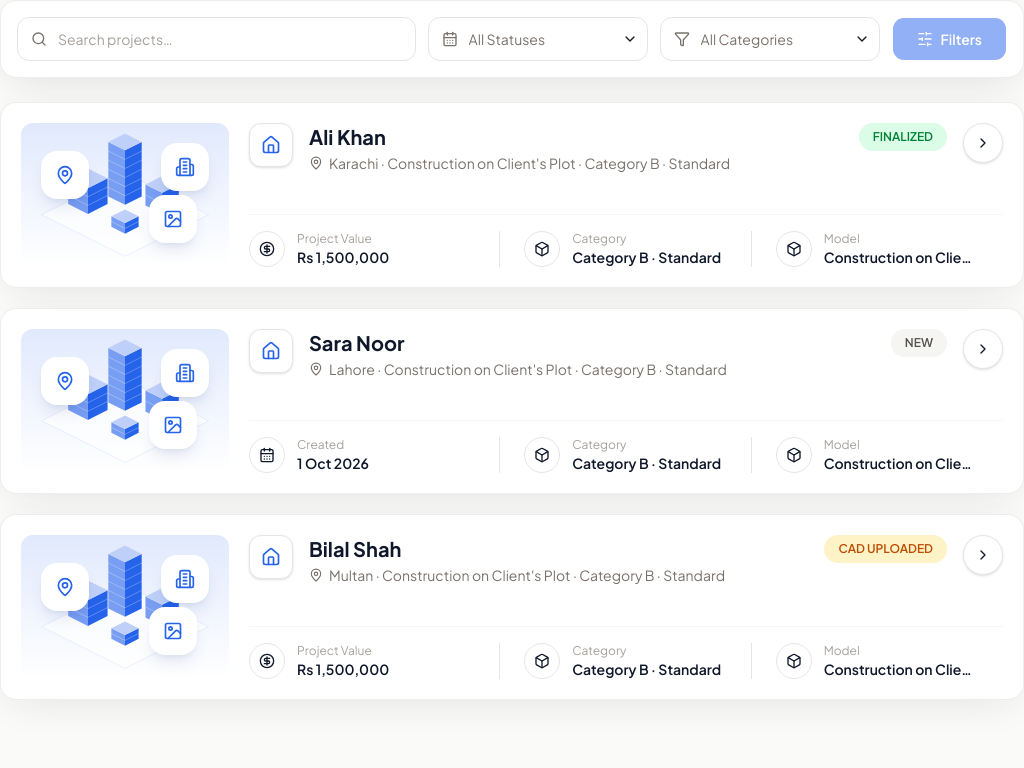
Test case: ProjectsList › filters by status and category together
This screenshot has width=1024, height=768.
Select "Finalized" in the dropdown named "Filter by status": (538, 39) x1=428 y1=17 x2=648 y2=61
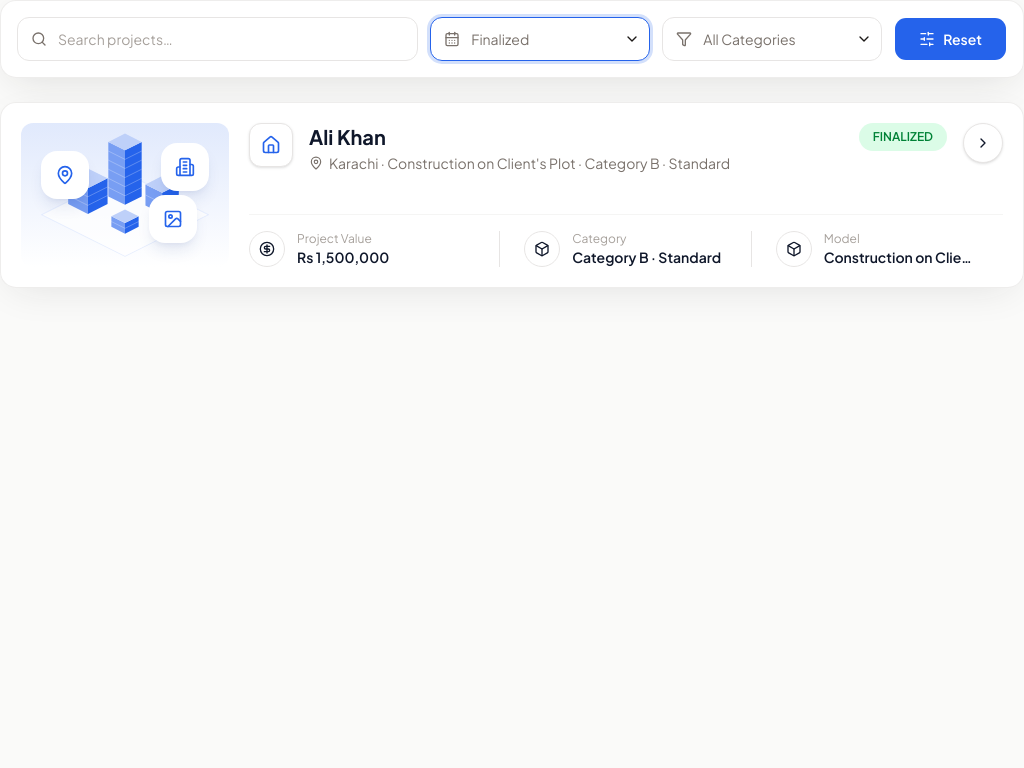
Select "Category A" in the dropdown named "Filter by category": (772, 39) x1=662 y1=17 x2=882 y2=61
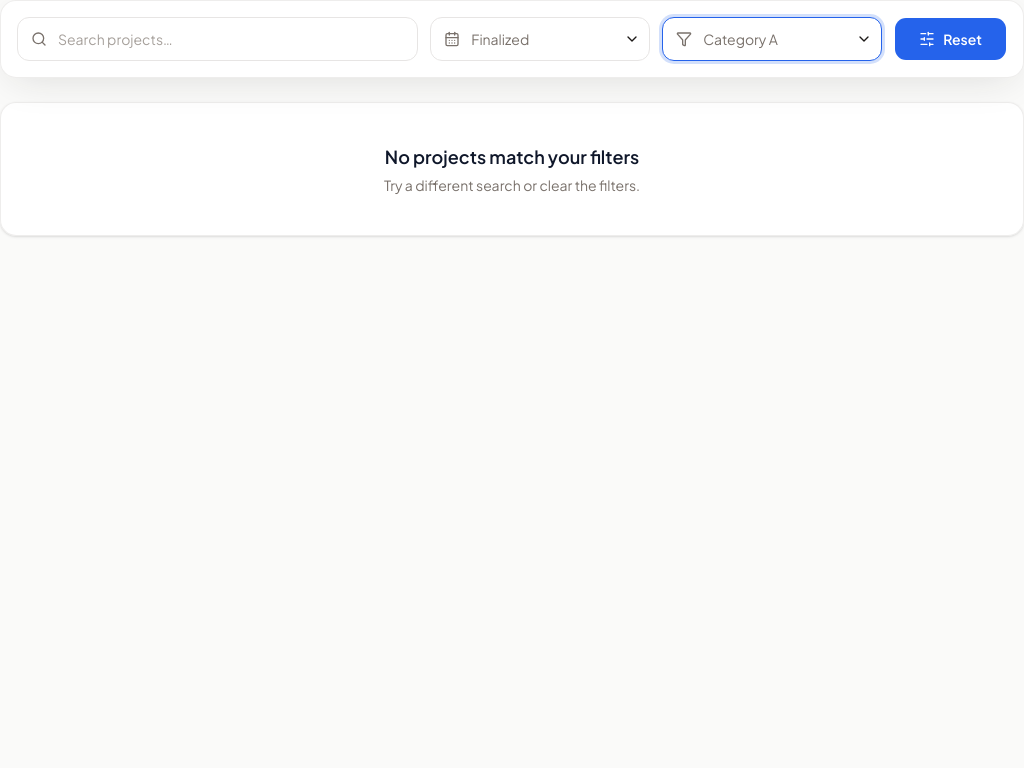
Expected: the text "No projects match your filters" is shown, x1=385 y1=145 x2=639 y2=168
